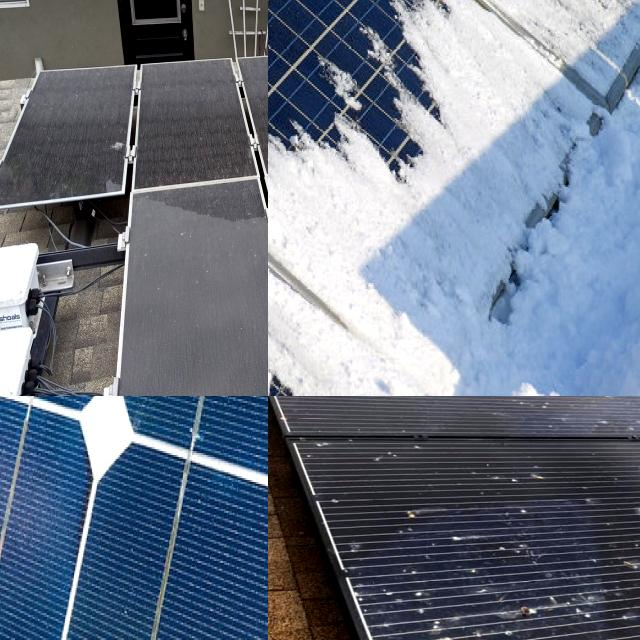bird: (380, 559, 620, 640), (362, 490, 552, 546), (485, 396, 640, 439), (268, 396, 397, 444), (607, 454, 640, 599)
crack: (0, 396, 268, 640)
dust: (132, 246, 268, 396), (149, 64, 268, 169), (42, 72, 124, 192), (142, 190, 260, 240)
panel: (268, 51, 415, 242), (282, 287, 460, 396), (281, 88, 424, 211), (268, 151, 354, 316), (268, 220, 344, 396), (335, 0, 473, 83), (402, 0, 509, 46), (553, 0, 640, 56), (268, 312, 326, 396), (268, 112, 335, 179), (374, 0, 473, 36), (488, 0, 568, 42), (268, 23, 313, 95)
